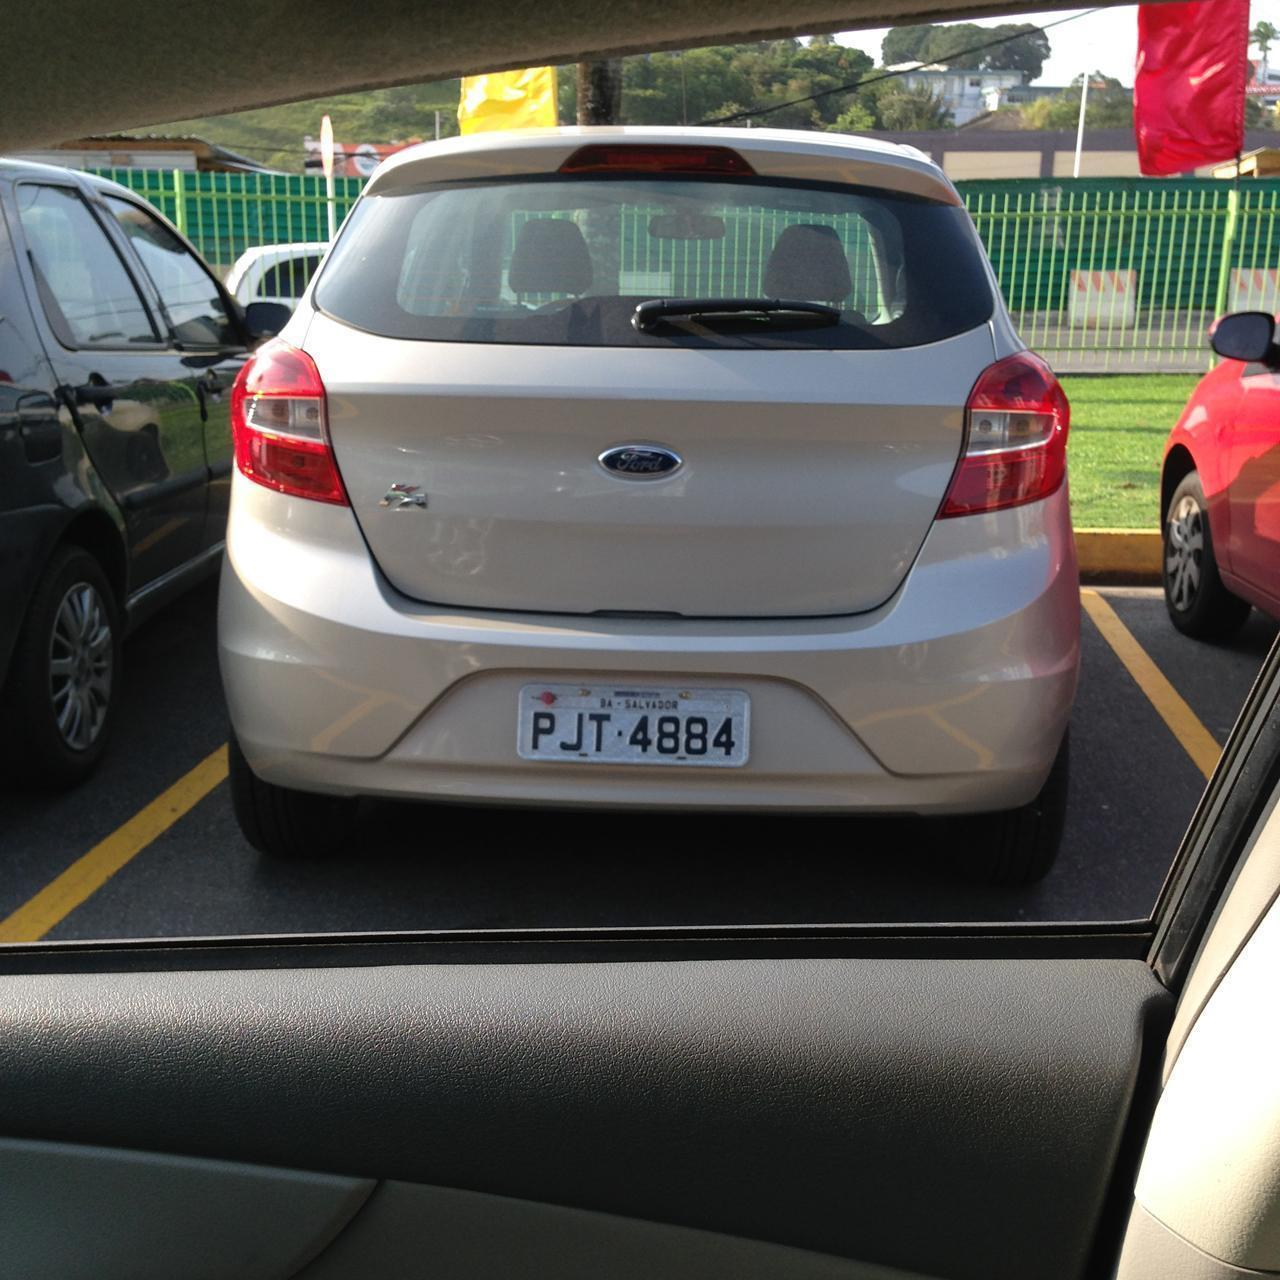placa de veiculo: (490, 646, 768, 796)
